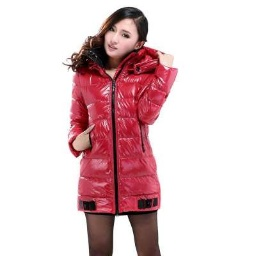face: (63, 3, 156, 76)
